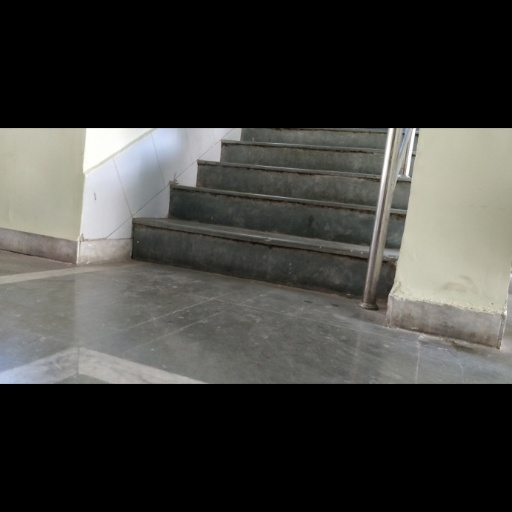Stairs: (133, 129, 386, 295), (378, 179, 408, 297)
